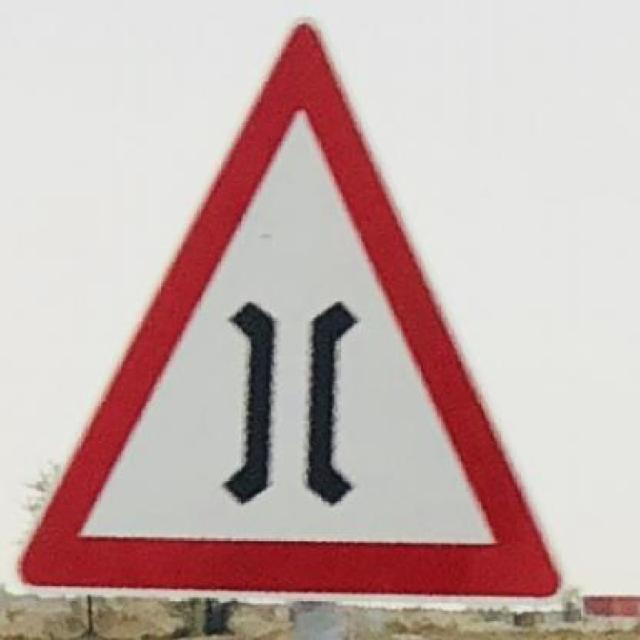narrow bridge ahead: (17, 26, 560, 599)
